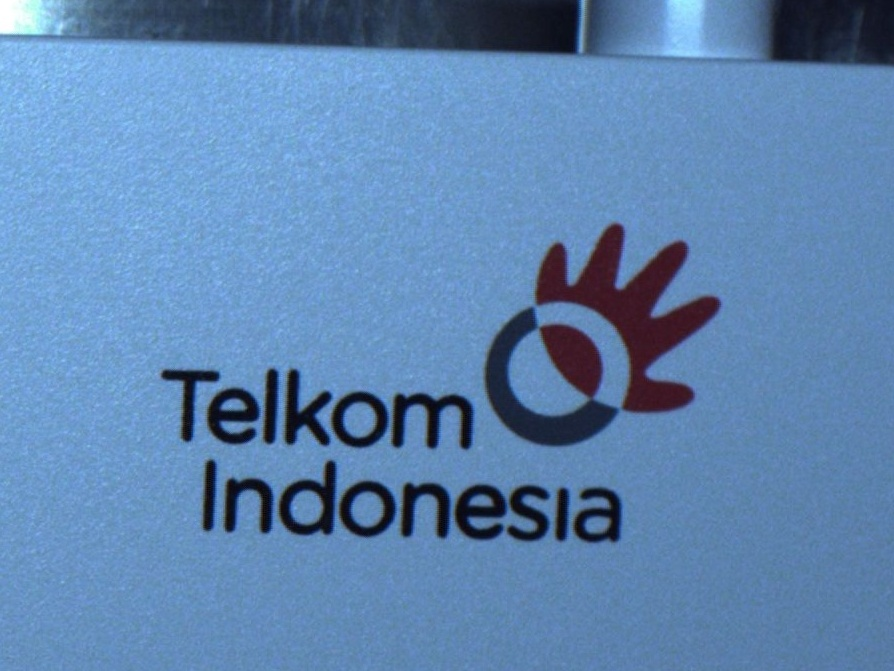BQ_IndonTelkom: (140, 215, 721, 544)
